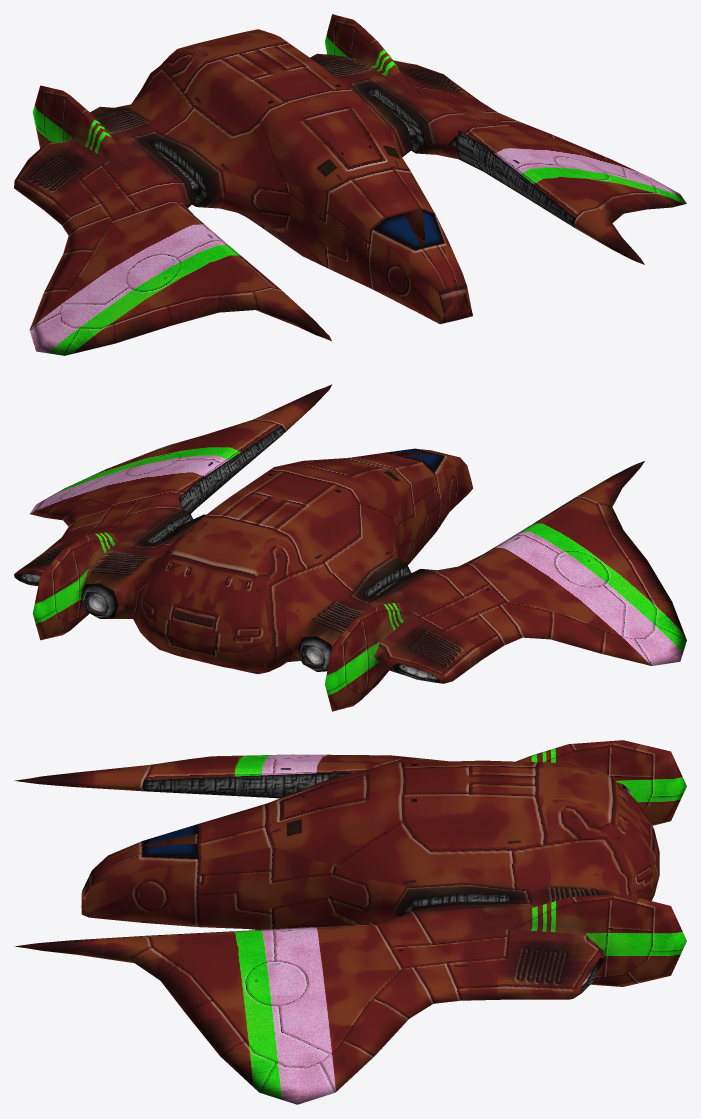
File: emu.obj
3 renders of one model, top to bottom at view 1: azimuth 30°, elevation 25°; view 2: azimuth 150°, elevation 25°; view 3: azimuth 270°, elevation 25°, orthographic. The views are drawn at different scales.
Bounding box in the file's own units: 17.67 × 3.74 × 14.72.
1 material, 1 textured.
